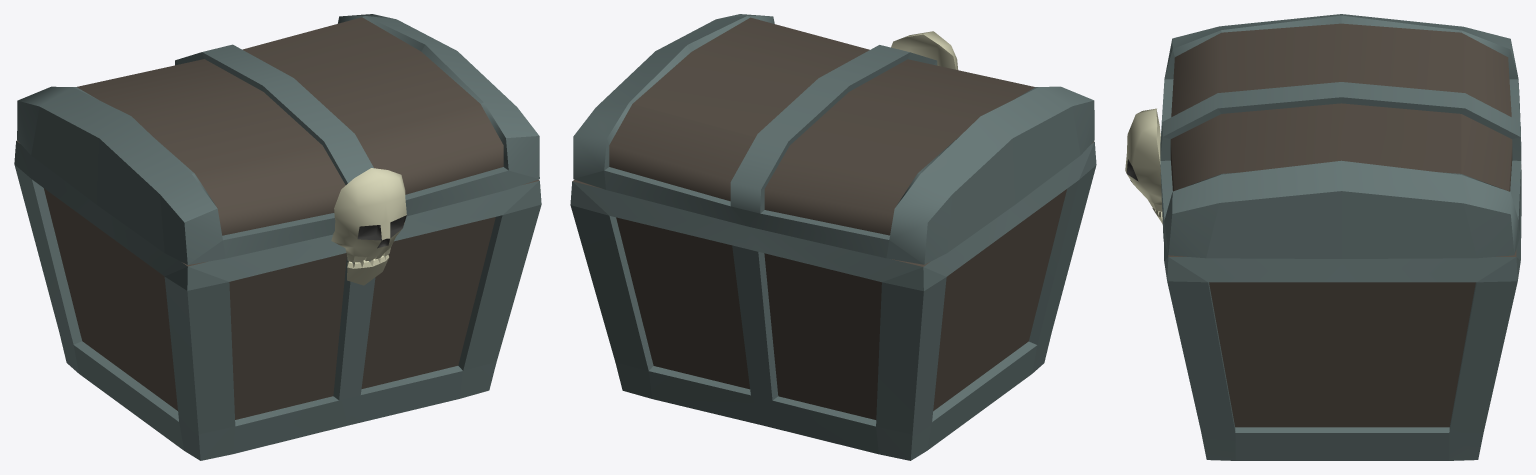
File: chestOpen_mesh.fbx
The picture shows the model from 3 angles, left to right: view 1: azimuth 30°, elevation 25°; view 2: azimuth 150°, elevation 25°; view 3: azimuth 270°, elevation 25°; orthographic projection.
Visible parts, largest first — view 1: polySurface28; view 2: polySurface28; view 3: polySurface28.
Part boxes in pixels (x1,y1,x2,y2): polySurface28: (14, 14, 541, 460); polySurface28: (570, 14, 1096, 460); polySurface28: (1125, 14, 1521, 460).
Size of the model in its own units: 2.37 by 1.85 by 2.21.
